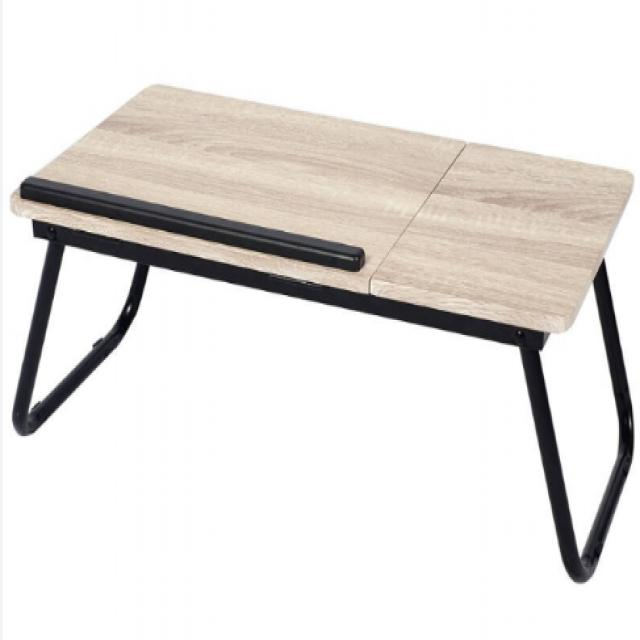table: (6, 69, 640, 593)
